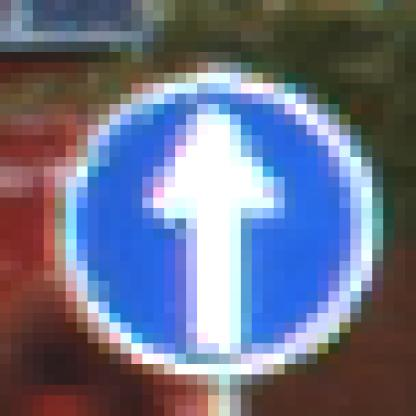AheadOnly: (56, 63, 362, 365)
